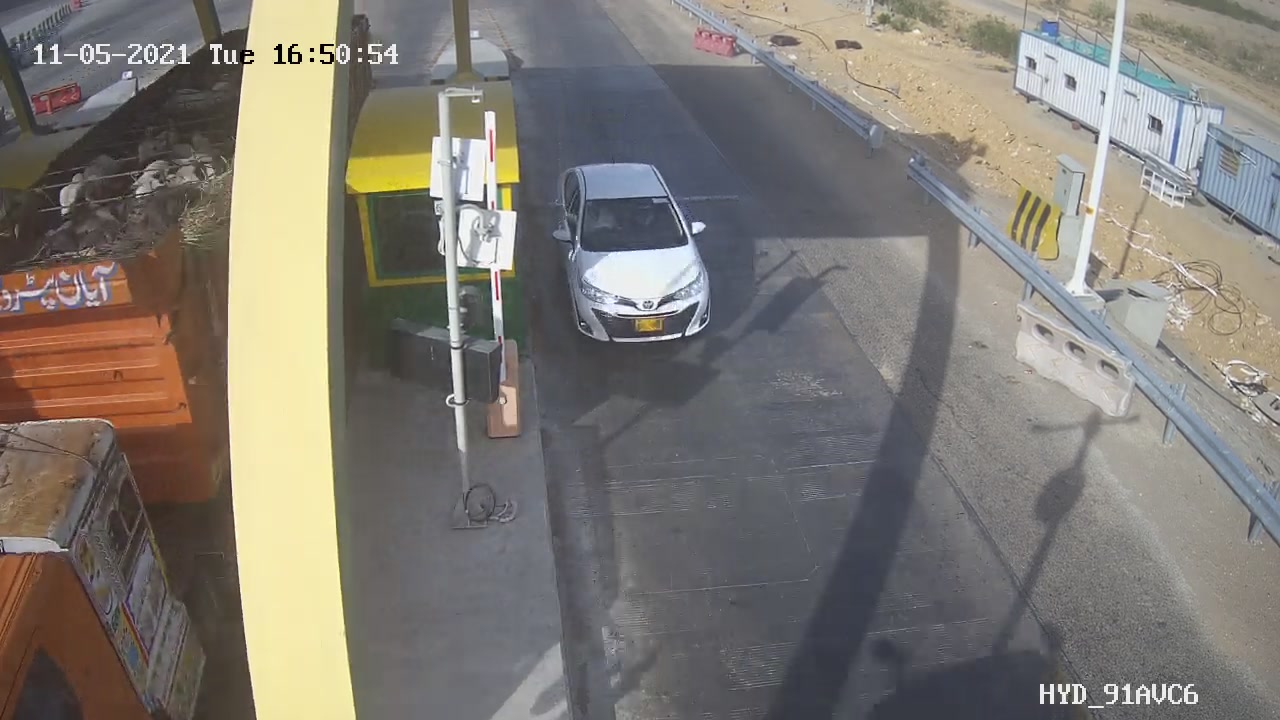F1: (538, 146, 738, 361)
